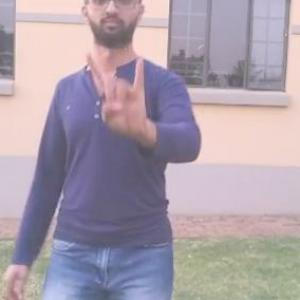takeoff-hand: (80, 46, 150, 144)
